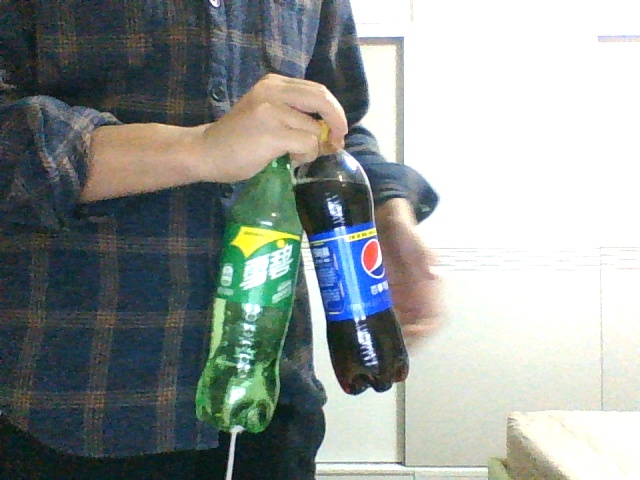Cola: (299, 127, 410, 392)
Sprite: (195, 168, 303, 431)
